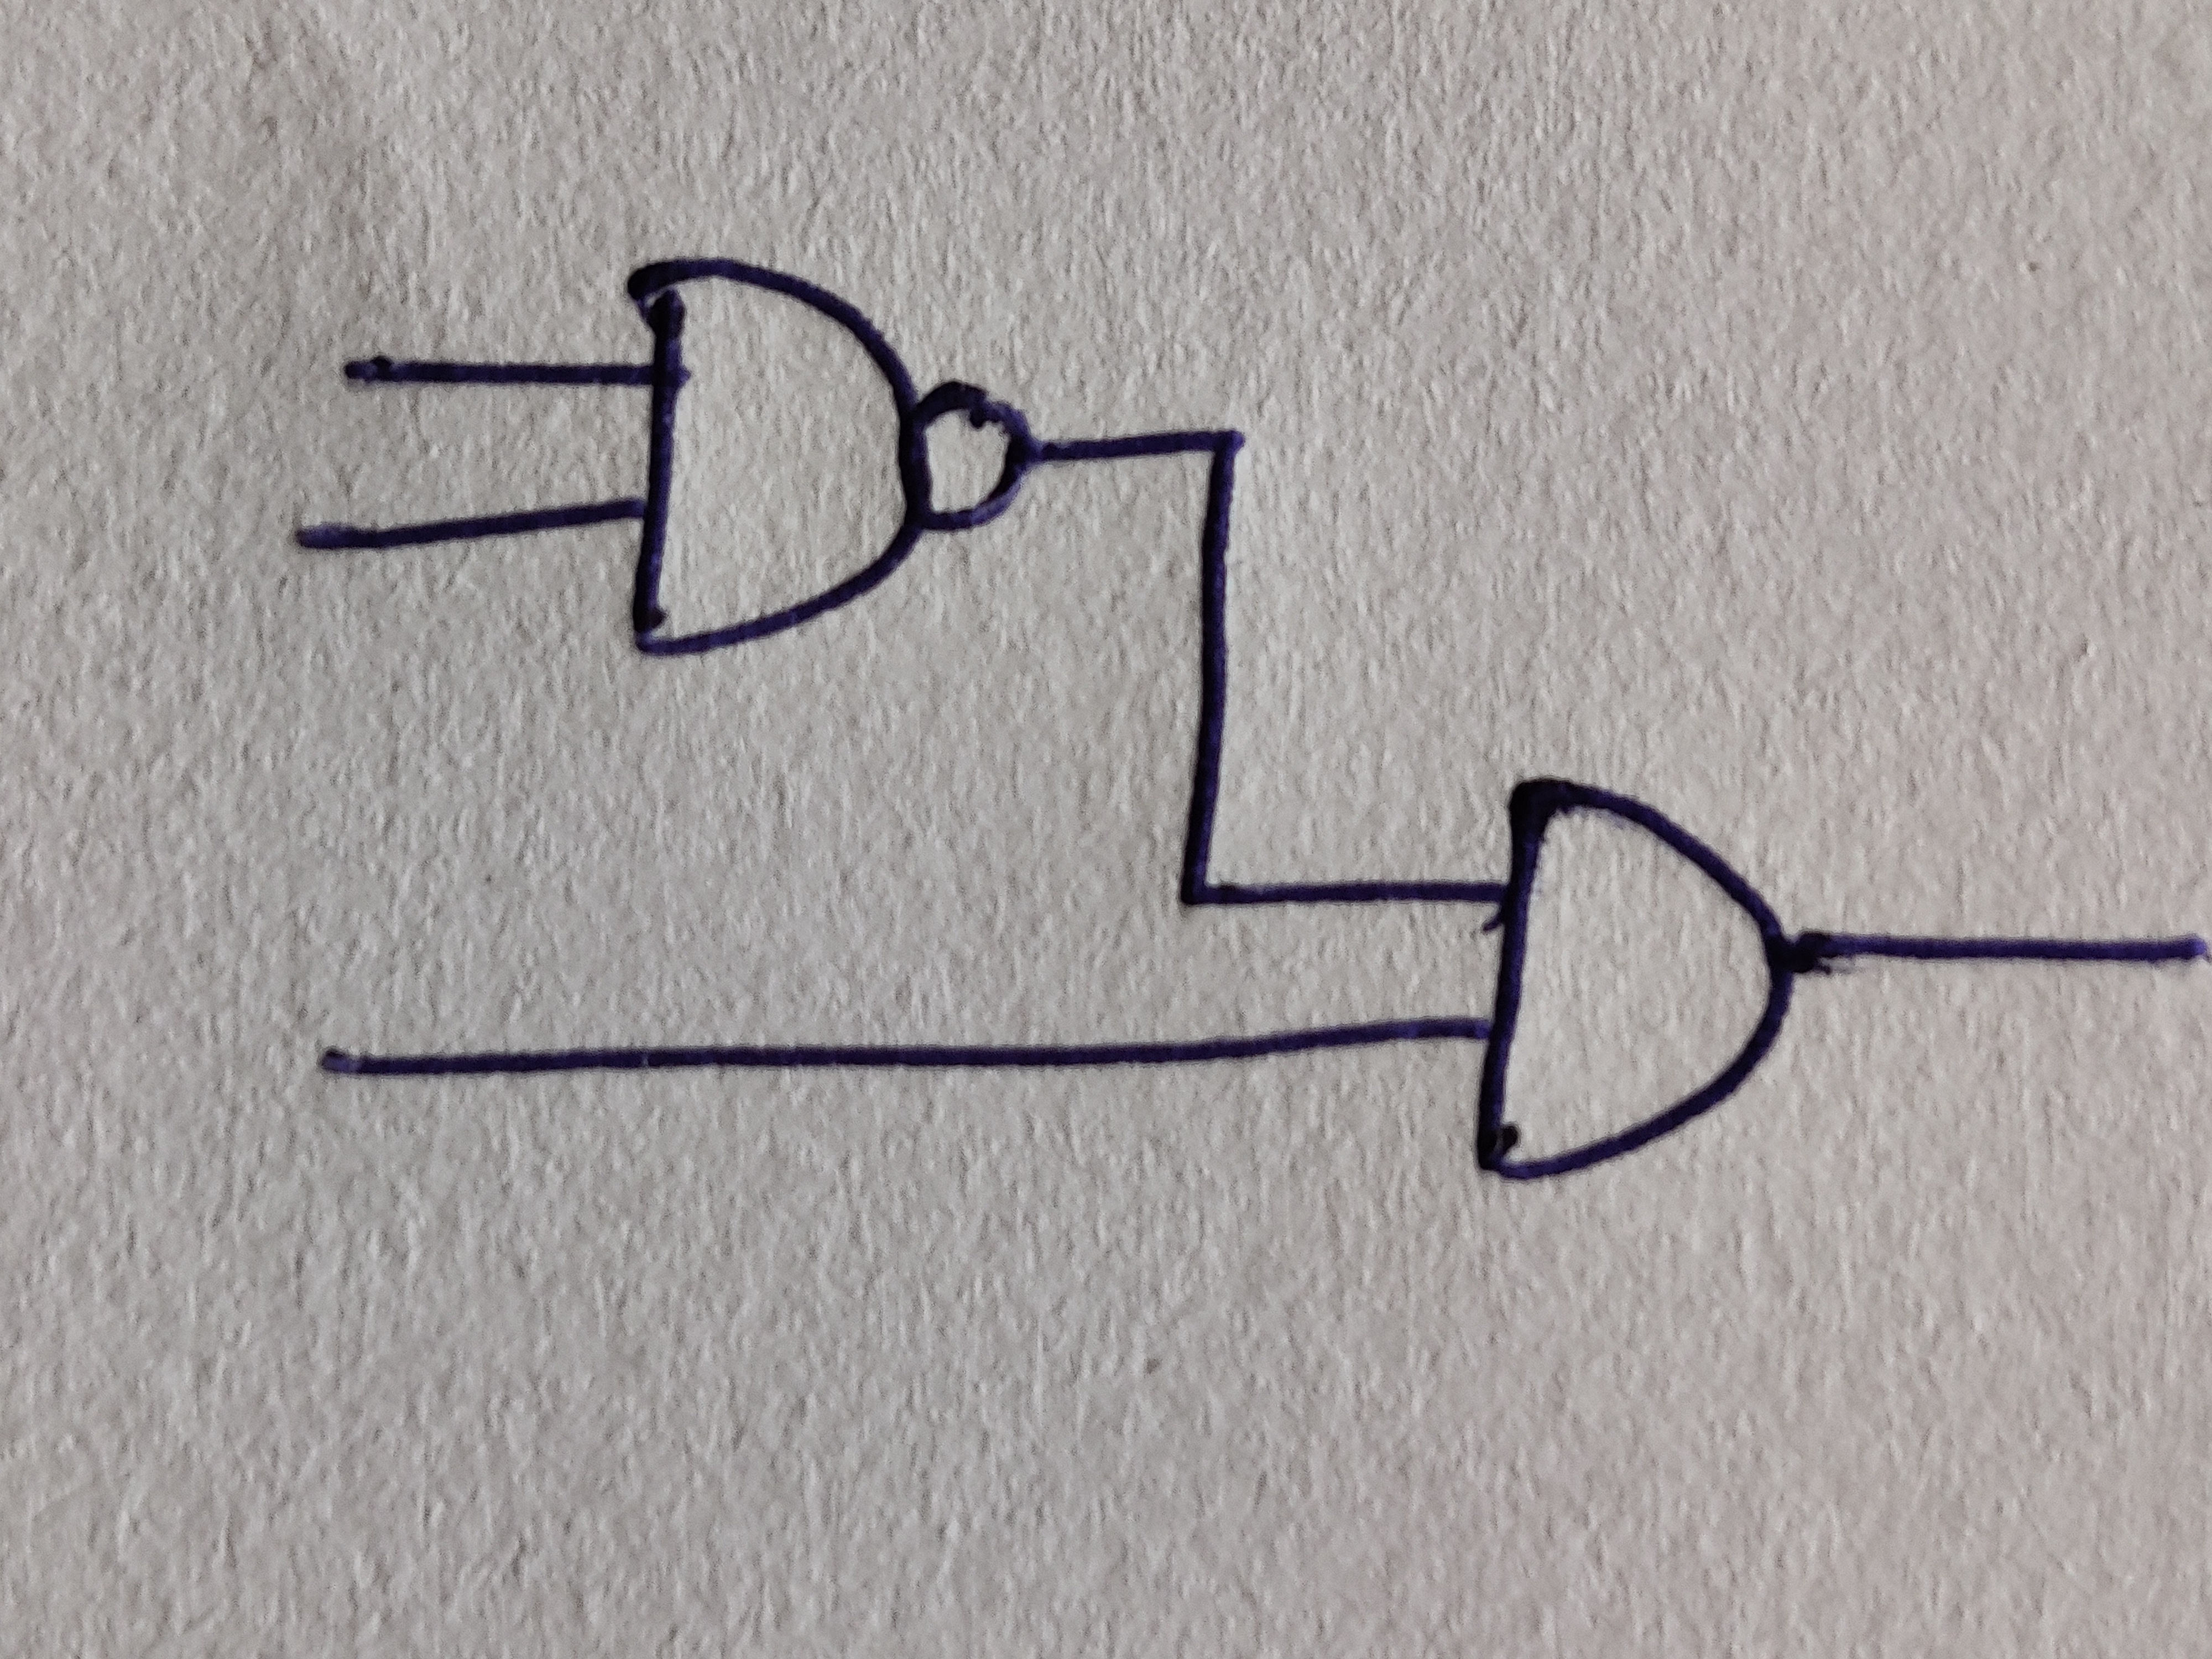and: (1477, 781, 1796, 1180), (625, 258, 932, 659)
not: (916, 382, 1031, 530)
